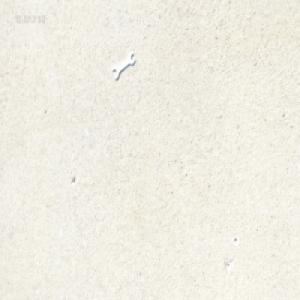Wrench: (112, 54, 134, 83)
